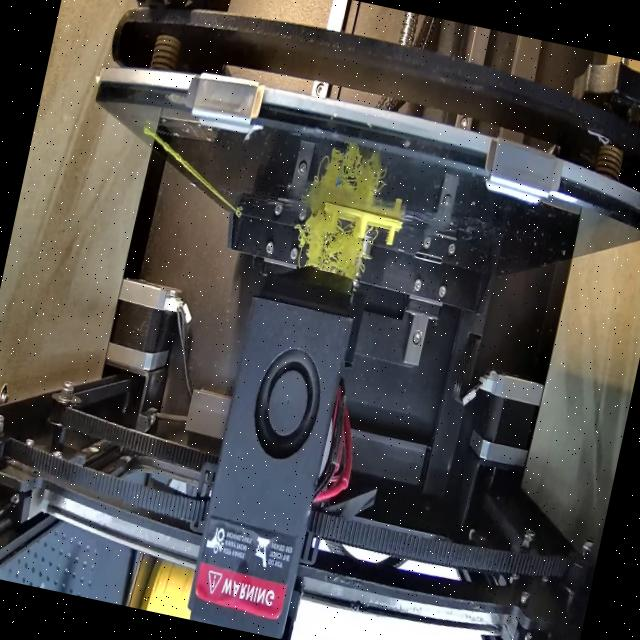spaghetti: (288, 212, 376, 285)
